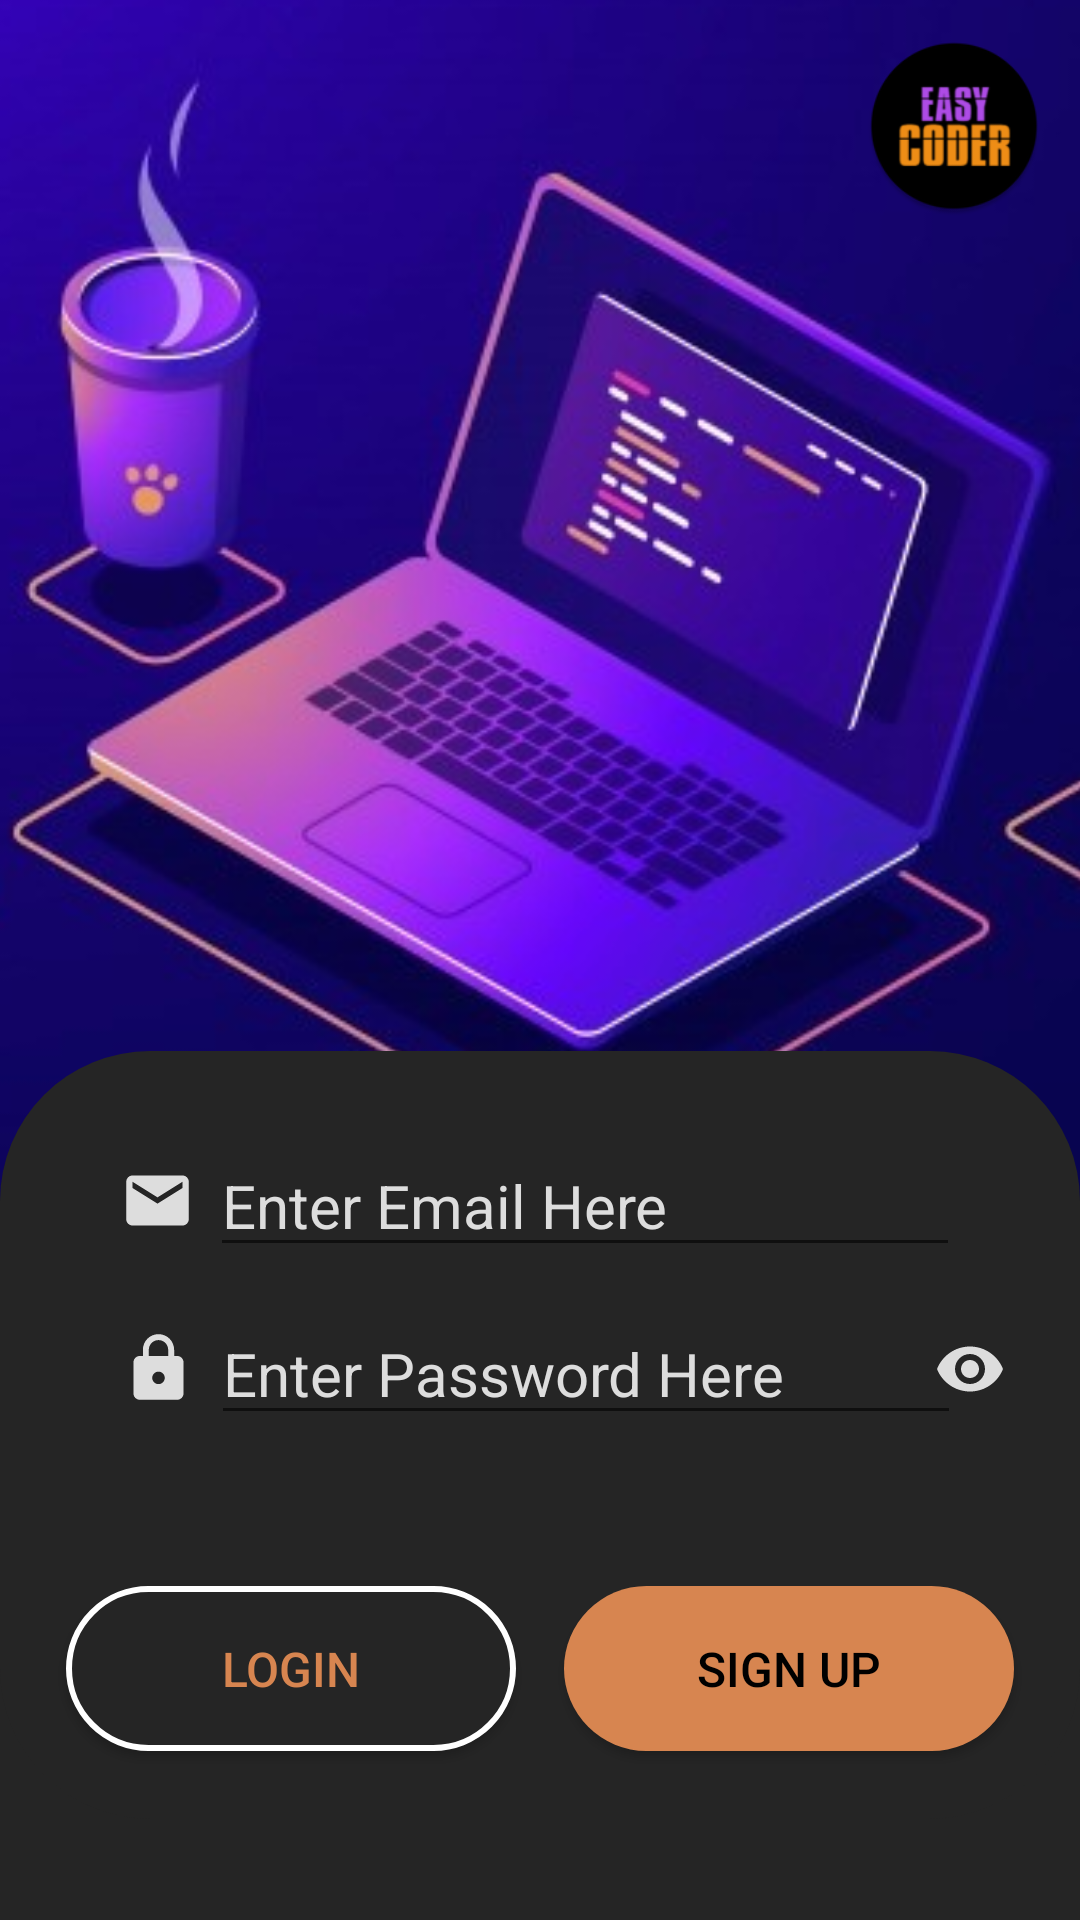

Icon click points for this 1080px x 1920px phone screenshot, format (x=x, y=y):
eye: (x=970, y=1369)
